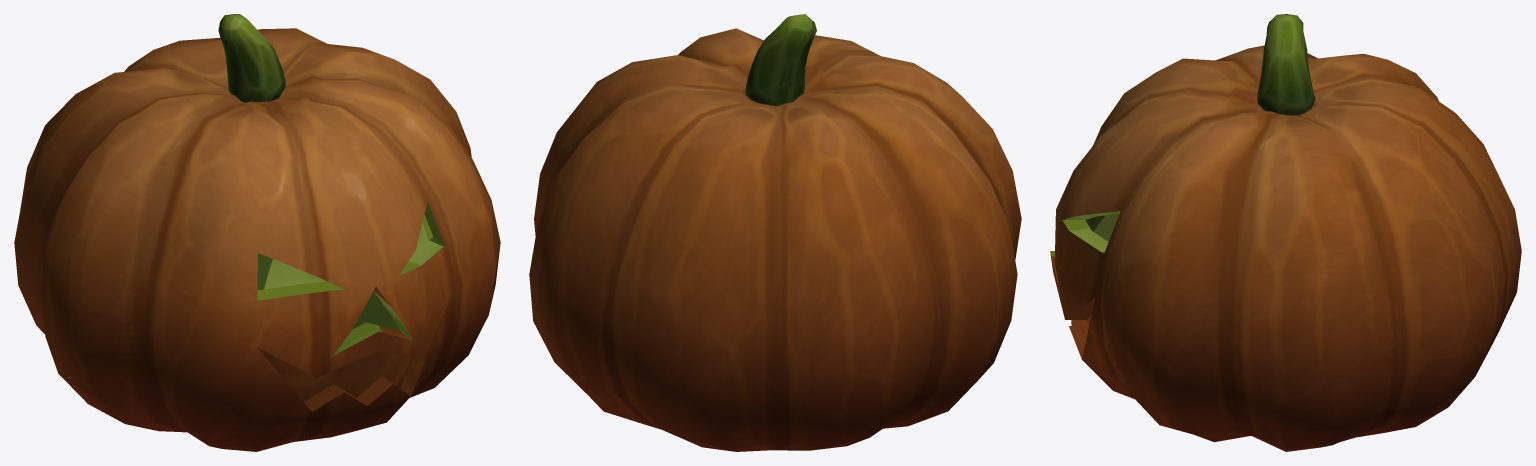
Rendered from Pumpking_01.fbx.
3 views of the same model, side by side, from view 1: azimuth 30°, elevation 25°; view 2: azimuth 150°, elevation 25°; view 3: azimuth 270°, elevation 25° (orthographic). The views are drawn at different scales.
Parts seen in each view (by area): view 1: SM_Pumpkin_L.002; view 2: SM_Pumpkin_L.002; view 3: SM_Pumpkin_L.002.
Part boxes in pixels (x1,y1,x2,y2): SM_Pumpkin_L.002: (14,14,500,451); SM_Pumpkin_L.002: (529,14,1021,451); SM_Pumpkin_L.002: (1050,14,1521,451).
Bounding box in the file's own units: 76.24 × 65.14 × 73.82.
